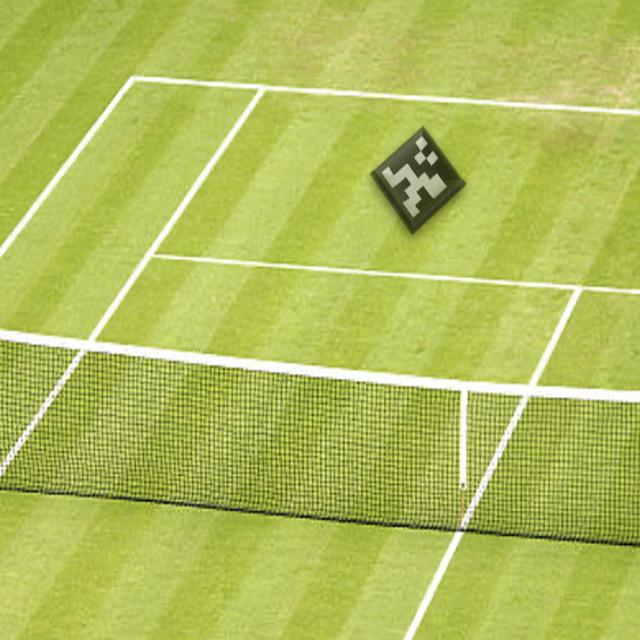marker: (366, 114, 472, 238)
